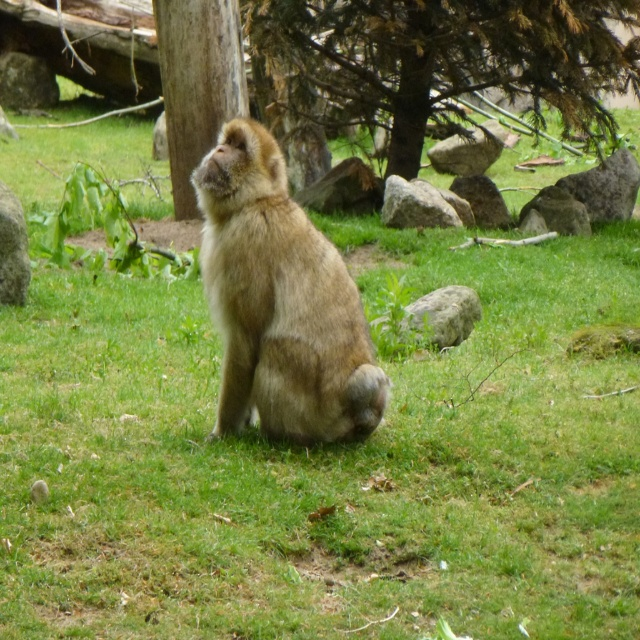Monkey: (195, 111, 398, 467)
